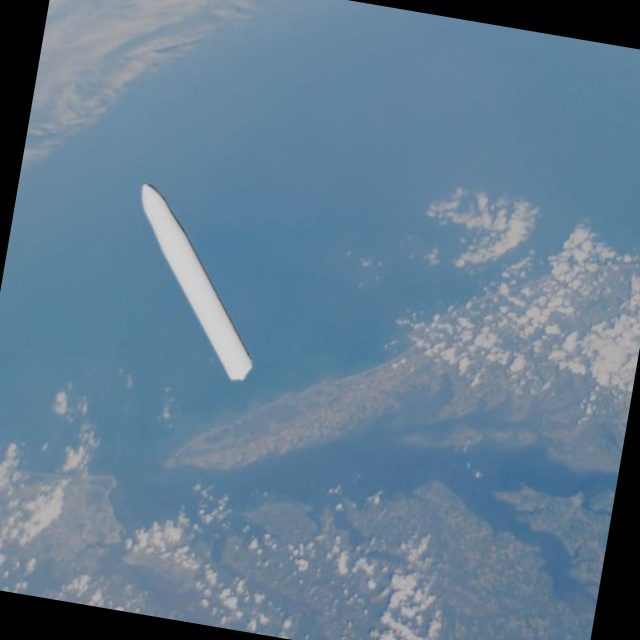rocket: (94, 181, 285, 397)
